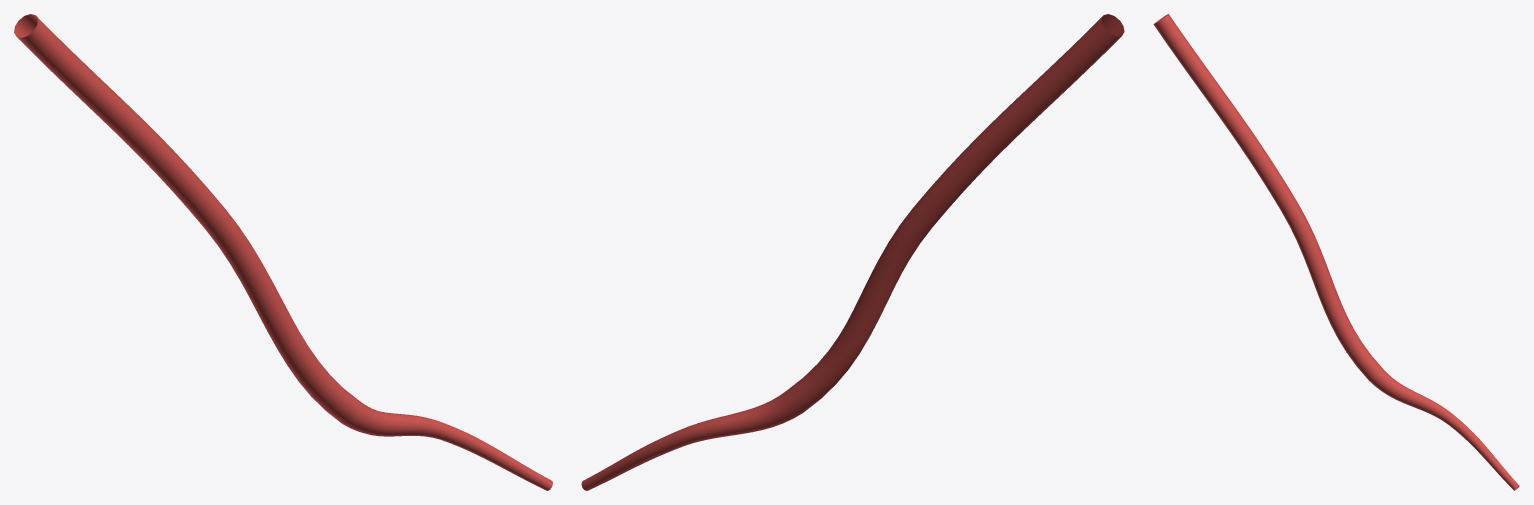
3 views of the same model, side by side, from view 1: azimuth 30°, elevation 25°; view 2: azimuth 150°, elevation 25°; view 3: azimuth 330°, elevation 25° (orthographic). The views are drawn at different scales.
Parts seen in each view (by area): view 1: 右侧上唇动脉; view 2: 右侧上唇动脉; view 3: 右侧上唇动脉.
Boxes of the visible parts, x1,y1,x2,y2 form: 右侧上唇动脉: [14, 14, 552, 490]; 右侧上唇动脉: [581, 14, 1124, 490]; 右侧上唇动脉: [1153, 14, 1519, 490].
Bounding box in the file's own units: 0.0323 × 0.0345 × 0.00274.
